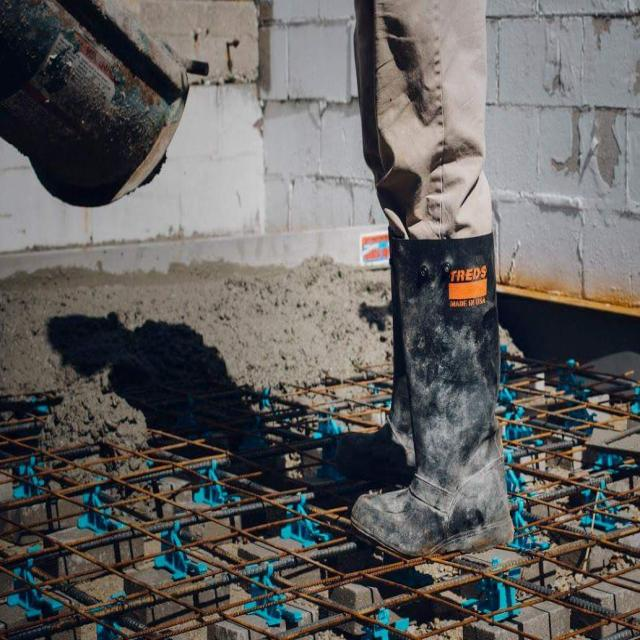boot: (339, 227, 529, 552)
